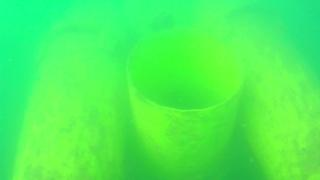pipe: (127, 27, 248, 180), (221, 11, 320, 180), (12, 34, 126, 180)
